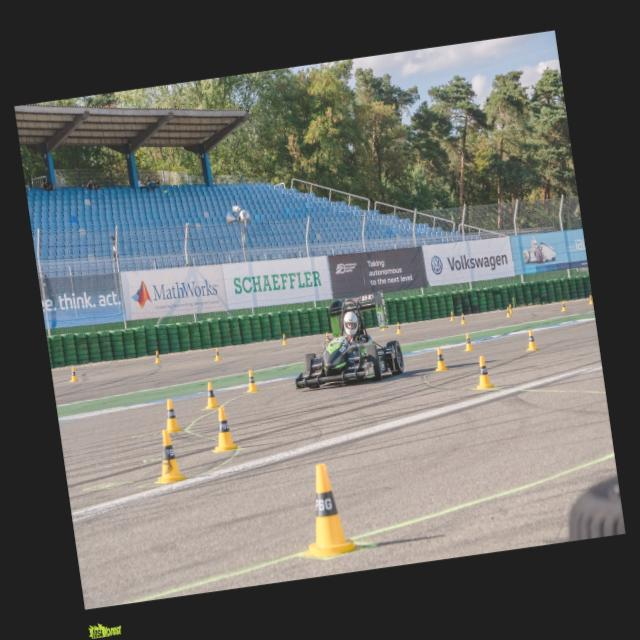yellow_cone: (291, 460, 363, 560), (147, 428, 190, 486), (208, 406, 240, 452), (471, 355, 496, 390), (158, 398, 182, 434), (202, 382, 222, 409), (431, 346, 449, 372), (243, 369, 259, 393), (523, 329, 539, 352), (462, 332, 477, 352), (69, 367, 78, 382), (154, 350, 162, 363), (214, 348, 222, 360), (324, 332, 331, 344), (459, 313, 466, 324), (561, 300, 567, 312), (396, 322, 402, 334), (282, 333, 288, 345), (380, 321, 387, 331), (506, 307, 512, 317), (449, 311, 455, 321), (509, 304, 514, 314), (588, 295, 593, 304)
